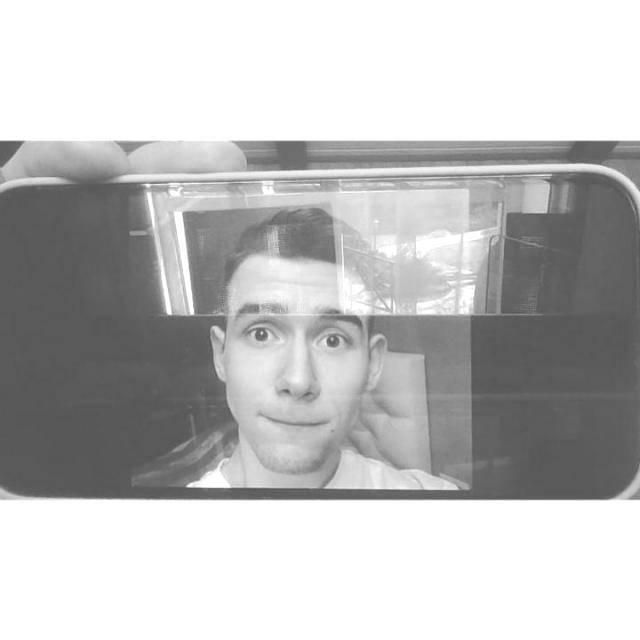fake: (0, 170, 639, 500)
